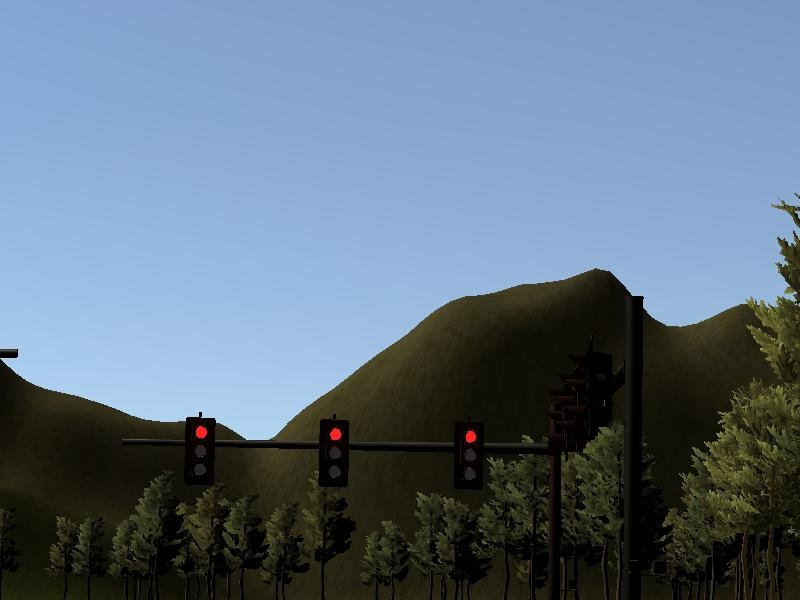RED: (316, 417, 351, 490), (184, 415, 218, 483), (452, 422, 486, 490)
